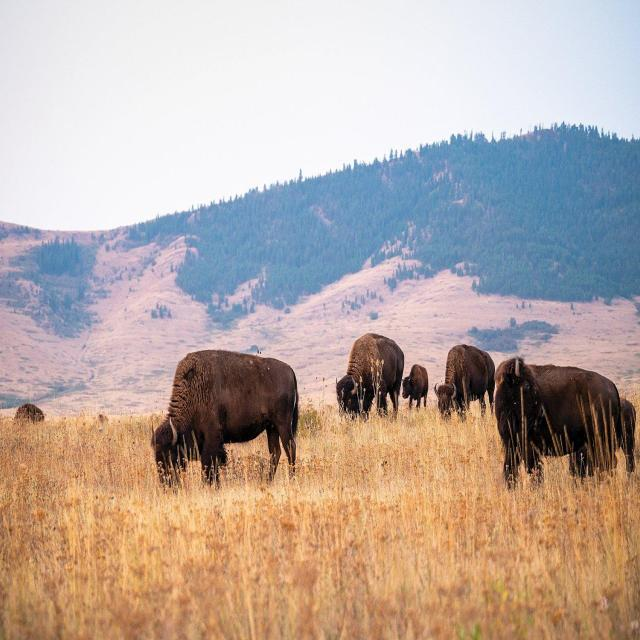Bison: (141, 344, 315, 511), (473, 346, 640, 514), (324, 323, 403, 430), (428, 313, 494, 425)
